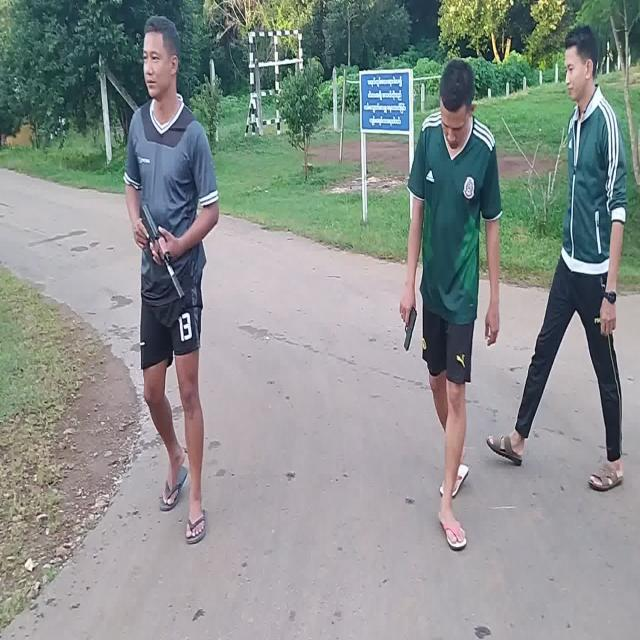gun: (140, 204, 184, 300), (404, 308, 417, 352)
